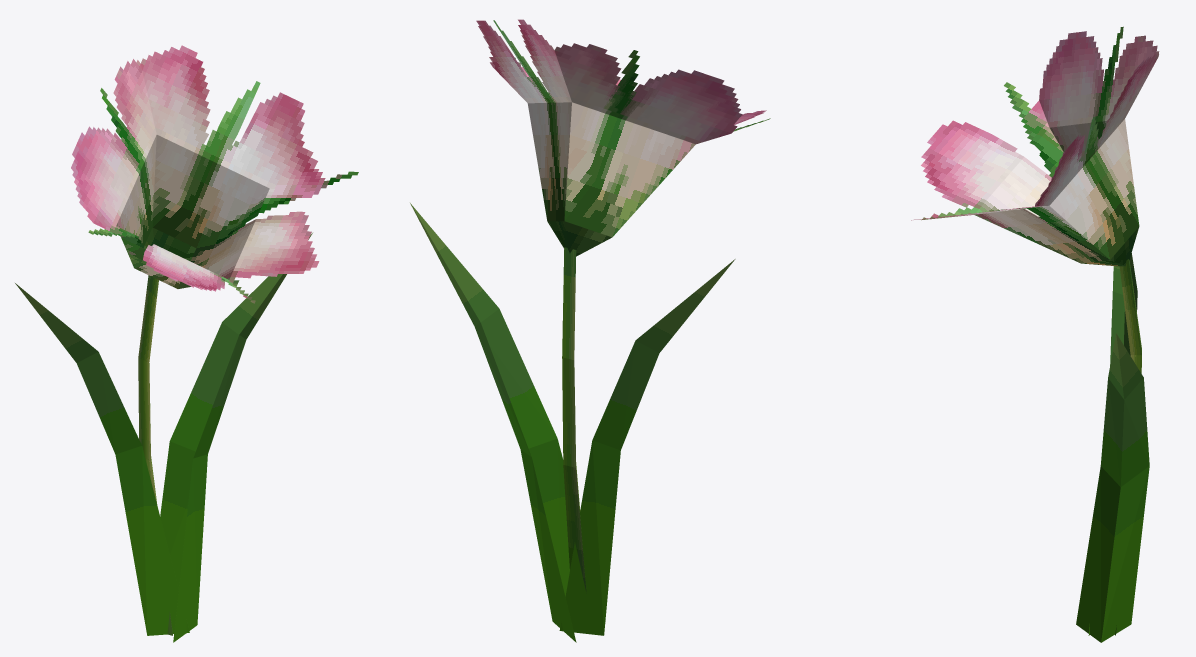
File: pink_flower1.obj
3 views of the same model, side by side, from view 1: azimuth 30°, elevation 25°; view 2: azimuth 150°, elevation 25°; view 3: azimuth 270°, elevation 25° (orthographic). The views are drawn at different scales.
Visible parts, largest first — view 1: Object_1; view 2: Object_1; view 3: Object_1.
Part boxes in pixels (x1=…): Object_1: x1=15, y1=45, x2=358, y2=642; Object_1: x1=410, y1=19, x2=770, y2=642; Object_1: x1=911, y1=26, x2=1159, y2=642.
Size of the model in its own units: 10 by 16.52 by 8.18.
2 materials, 2 textured.
